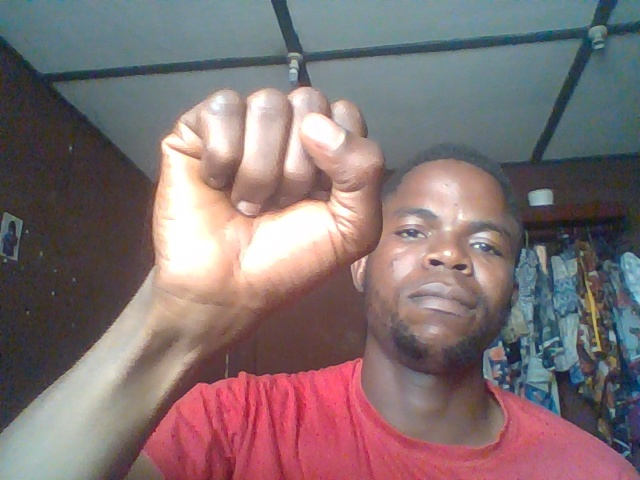Unity: (138, 79, 392, 363)
